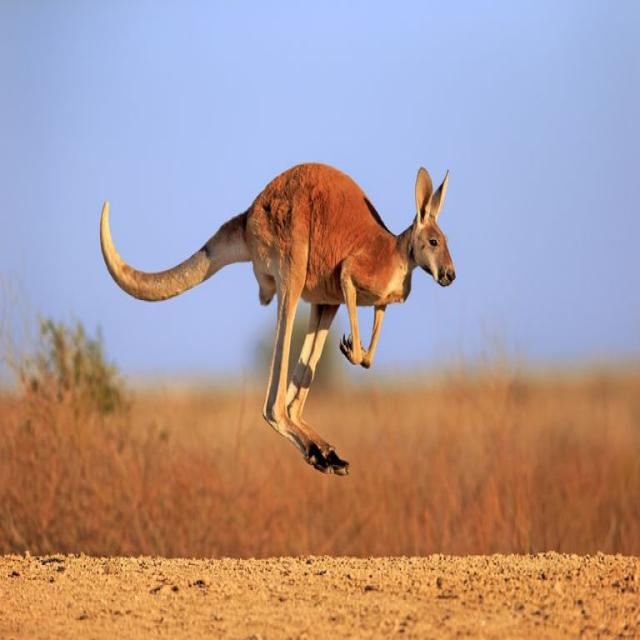Kangaroo: (85, 111, 471, 487)
